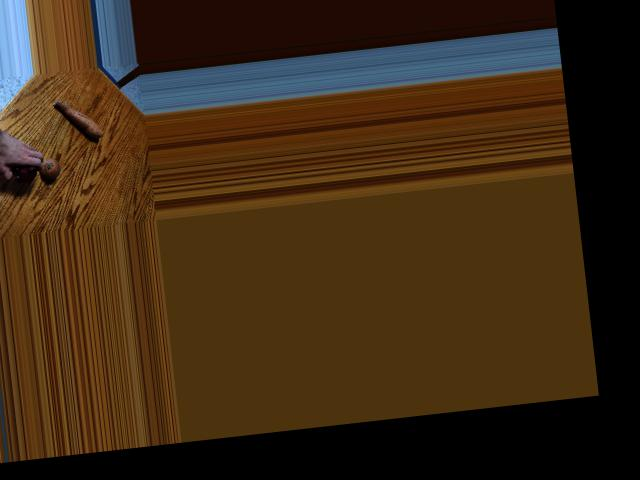onion: (35, 158, 60, 183)
